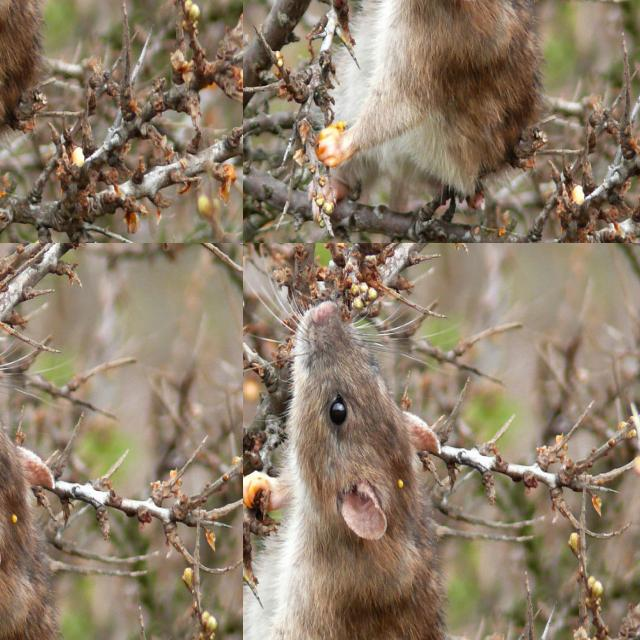rat: (243, 22, 640, 243), (243, 297, 435, 640), (0, 0, 169, 153), (166, 467, 228, 551)
